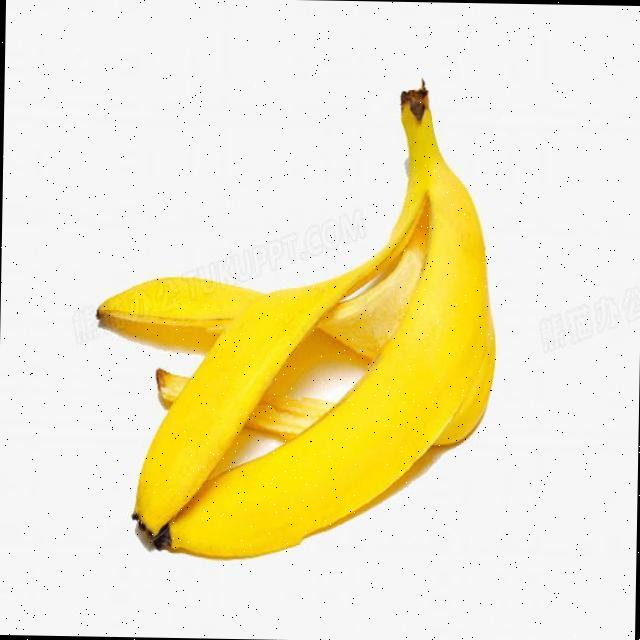banana-peel: (91, 72, 500, 564)
